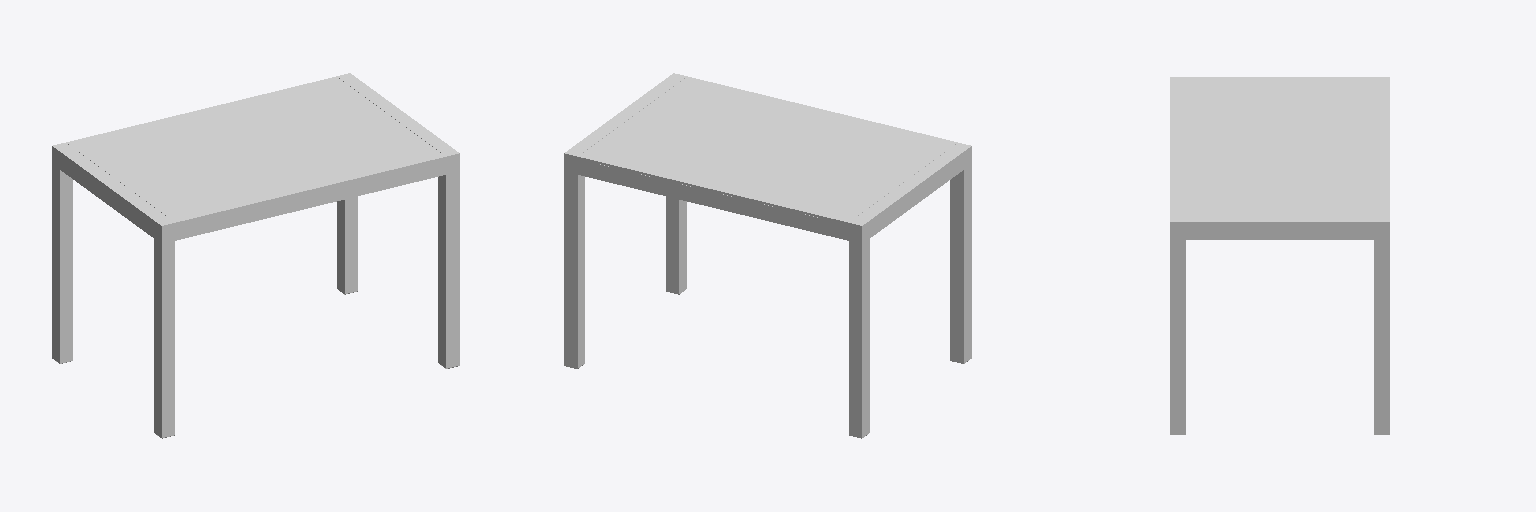
The model's file is kitchen_table.obj.
The picture shows the model from 3 angles: view 1: azimuth 30°, elevation 25°; view 2: azimuth 150°, elevation 25°; view 3: azimuth 270°, elevation 25°; orthographic projection.
Visible parts, largest first — view 1: 1_1, 2_2; view 2: 1_1, 2_2; view 3: 1_1, 2_2.
Part boxes in pixels (x1,y1,x2,y2): 1_1: (66, 76, 445, 224); 2_2: (52, 73, 459, 438); 1_1: (578, 76, 957, 224); 2_2: (564, 73, 971, 438); 1_1: (1170, 83, 1389, 215); 2_2: (1170, 77, 1389, 434).
Bounding box in the file's own units: 110 × 75.04 × 70.06.